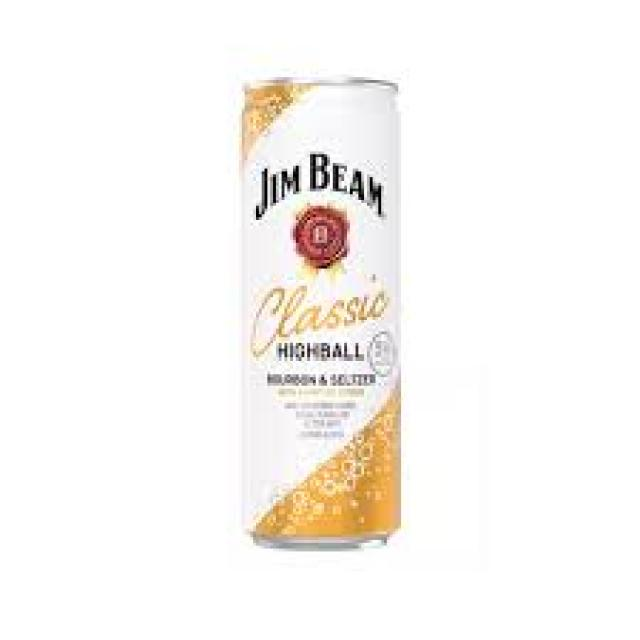Cans: (228, 66, 421, 557)
